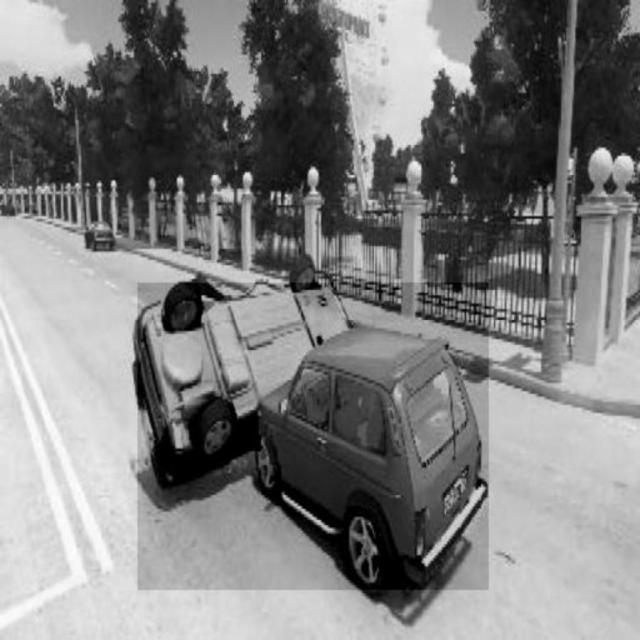accident: (138, 282, 488, 590)
vehicle: (85, 218, 115, 252)
